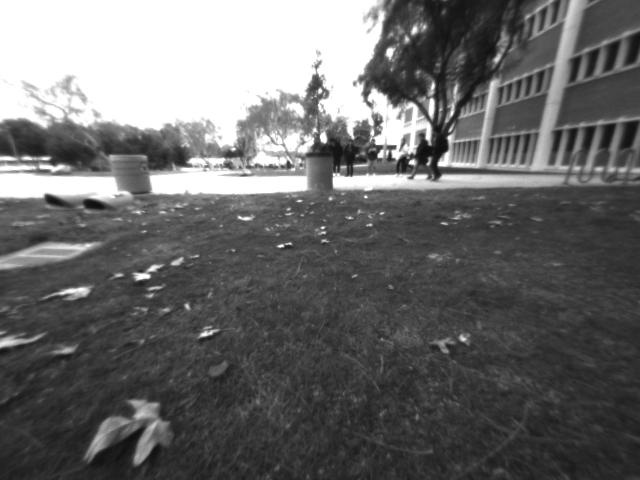trashcan: (108, 157, 152, 197), (306, 155, 336, 196)
